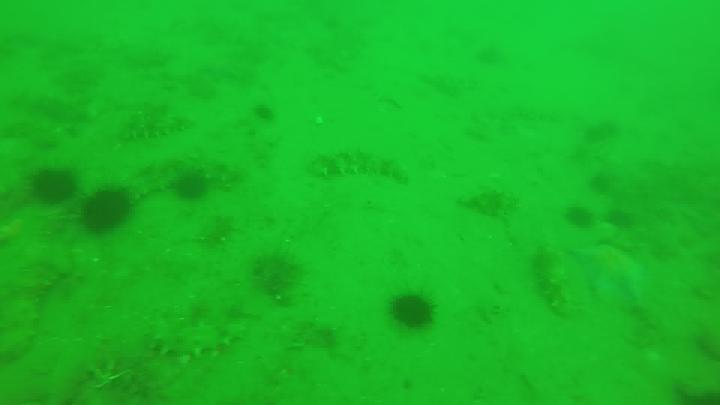echinus: (84, 182, 131, 235), (395, 294, 440, 334), (30, 166, 75, 205), (176, 173, 213, 205), (570, 206, 600, 228)
holothurian: (1, 259, 69, 358), (300, 149, 412, 194), (138, 320, 245, 357), (536, 240, 576, 315), (122, 112, 202, 142)
starfish: (575, 244, 654, 305)
